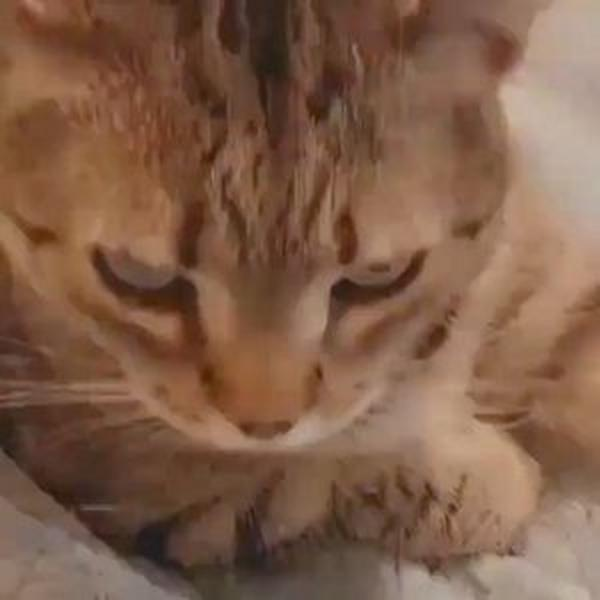michi: (1, 3, 599, 580)
